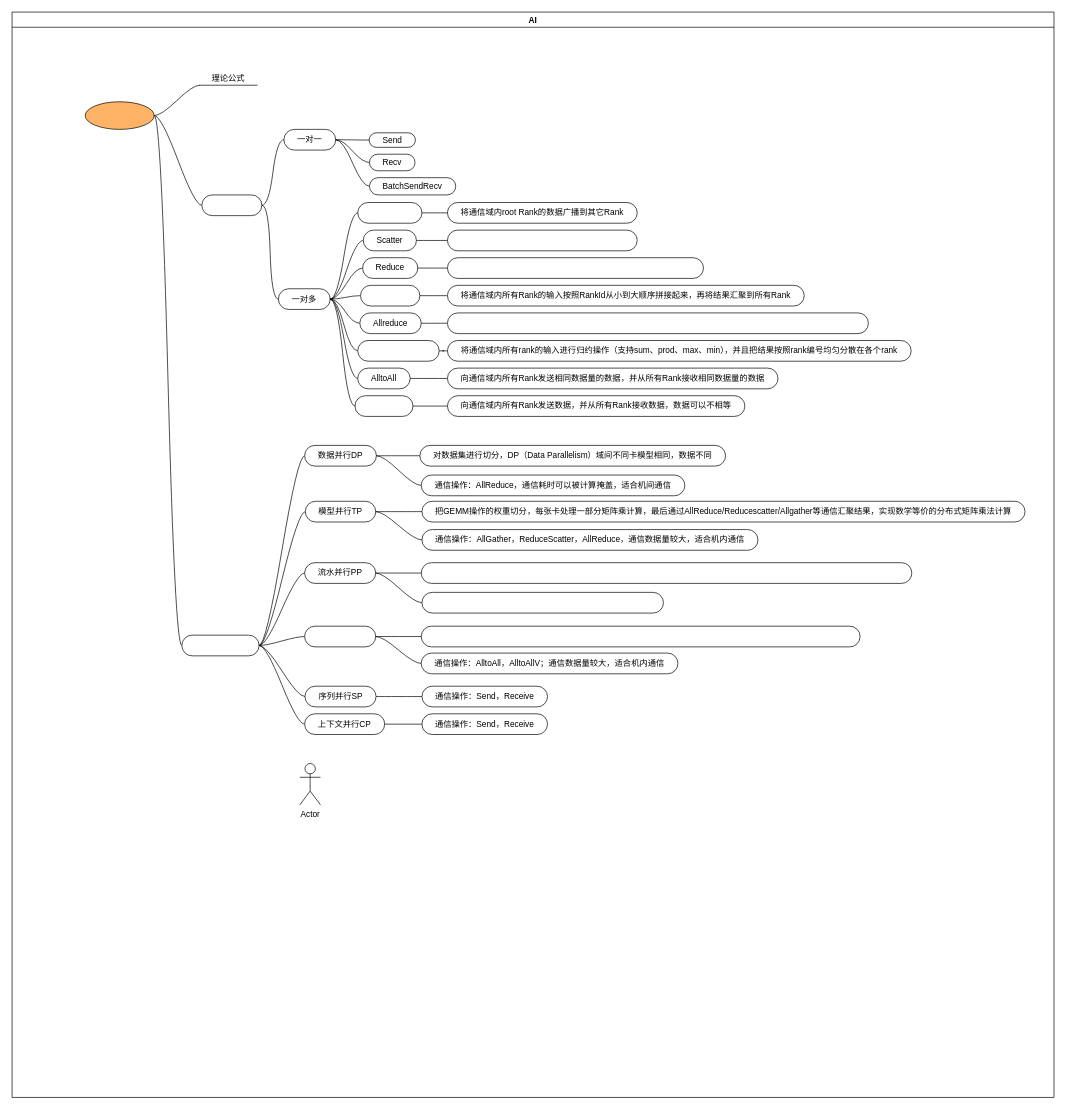
Image size: 1066x1110. Some labels were removed from this diagram. The box of each missing label's shape, as (x1, y1, x2, y2) in pixels:
Allgather: (360, 285, 420, 306)
AlltoAllV: (354, 395, 413, 416)
Broadcast: (357, 202, 422, 223)
ReduceScatter: (357, 340, 439, 361)
专家并行EP: (304, 625, 376, 647)
分布式并行策略: (181, 634, 259, 656)
将通信域内所有Rank的数据进行归约后，再发送到root Rank上: (447, 257, 703, 278)
将通信域内所有Rank的输入数据进行归约操作后（支持sum、prod、max、min），再把结果发送到所有Rank: (447, 312, 868, 334)
将通信域内的root Rank数据均分到其它Rank: (447, 229, 637, 251)
本质是“术业有专攻”。如果要解决一个涉及了多个领域知识的问题，则把这个问题按领域拆分开，使用AlltoAll原语: (421, 625, 860, 647)
模型被按层拆分成几个阶段/stage（一个阶段可以是一层，也可以是相邻的多层），每个计算Rank仅存储并执行其中的一个stage: (421, 562, 912, 583)
通信原语: (201, 194, 262, 216)
通信操作：Send，Receive，通信流量较小，适合机间通信: (421, 592, 663, 613)
集合通信: (85, 101, 154, 129)
